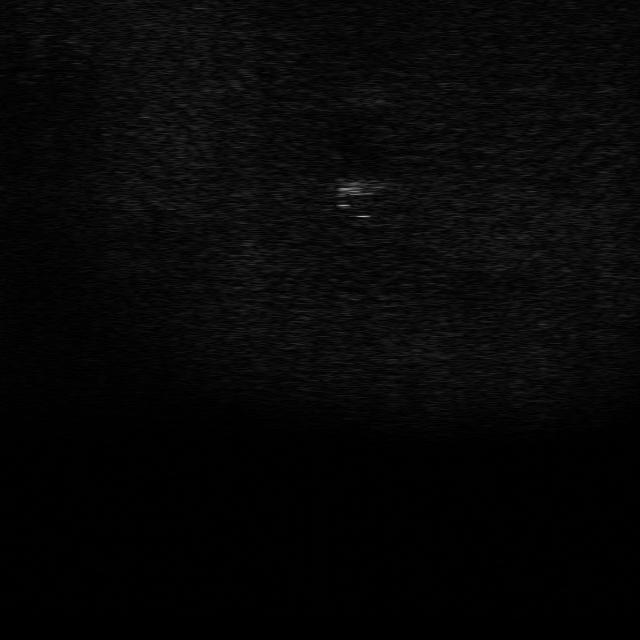plane: (330, 172, 395, 199)
